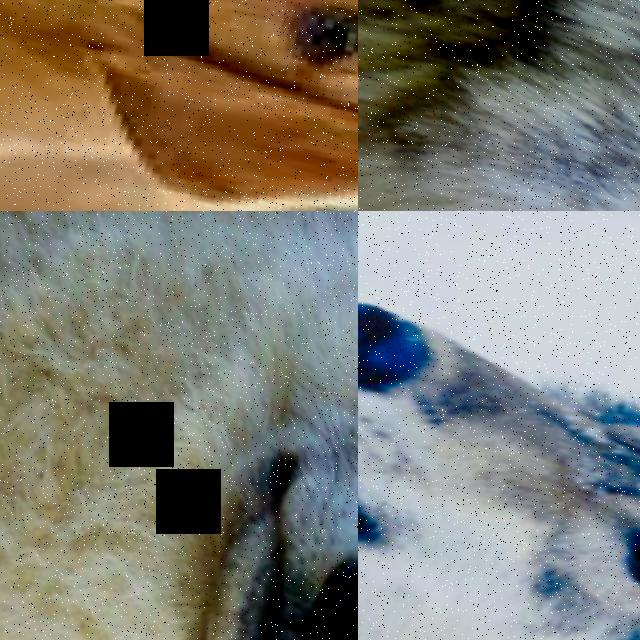dog: (0, 0, 358, 211)
wolf: (0, 211, 358, 640), (358, 211, 640, 640), (358, 0, 640, 211)
